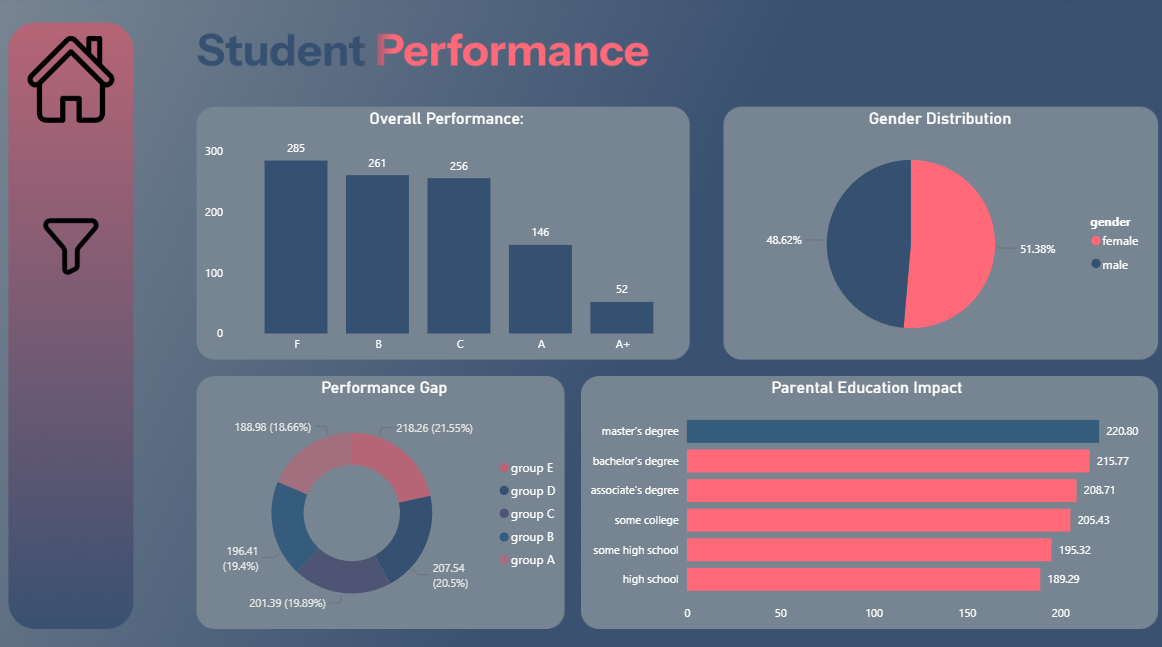

The dashboard page shown, as its layout file describes it:
{"tool":"powerbi","page":{"name":"Page 1","canvas":[1280,720],"ordinal":0},"visuals":[{"type":"barChart","title":"Parental Education Impact","fields":{"Category":["study_performance.parental_level_of_education"],"Y":["Avg(study_performance.Over)"]},"box":[640.8,416.1,626.6,276.9],"z":0},{"type":"pieChart","title":"Gender Distribution","fields":{"Category":["study_performance.gender"],"Y":["Avg(study_performance.Over)"]},"box":[800.6,121.8,466.7,276.9],"z":1000},{"type":"donutChart","title":"Performance Gap","fields":{"Y":["Avg(study_performance.Over)"],"Category":["study_performance.race_ethnicity"]},"box":[223.1,416.1,403.5,276.9],"z":2000},{"type":"columnChart","title":"Overall Performance:","fields":{"Category":["study_performance.Grade"],"Y":["CountNonNull(study_performance.gender)"]},"box":[223.1,121.8,539.5,276.9],"z":3000},{"type":"image","box":[29.6,231,105.1,83.2],"z":4000},{"type":"image","box":[29.2,42.3,105.1,94.9],"z":5001}]}

Visuals, with their boxes in screenshot pixels (x1, y1, x2, y2), scaled from the page's 1280x720 canvas onto the 1162x647 screenshot:
"Parental Education Impact" barChart: bbox=[582, 374, 1151, 623]
"Gender Distribution" pieChart: bbox=[727, 109, 1150, 358]
"Performance Gap" donutChart: bbox=[203, 374, 569, 623]
"Overall Performance:" columnChart: bbox=[203, 109, 692, 358]
image: bbox=[27, 208, 122, 282]
image: bbox=[27, 38, 122, 123]
